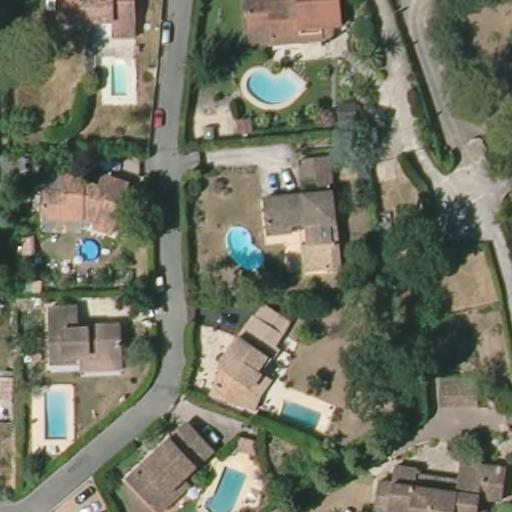pool: (237, 66, 311, 107), (198, 459, 253, 506), (219, 223, 269, 274), (34, 386, 76, 438), (276, 395, 332, 433), (98, 58, 136, 103), (75, 235, 103, 265)
